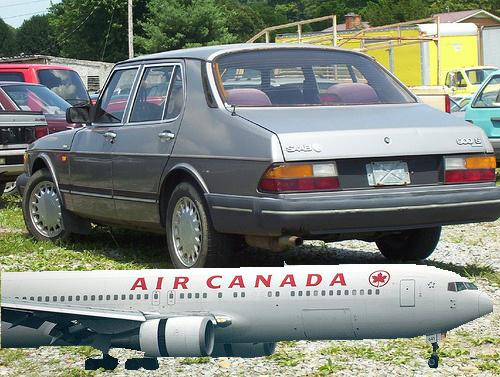tampered: (2, 262, 493, 370)
